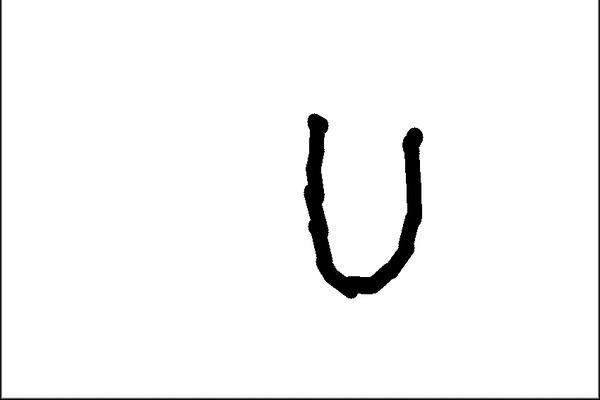U: (289, 99, 428, 303)
